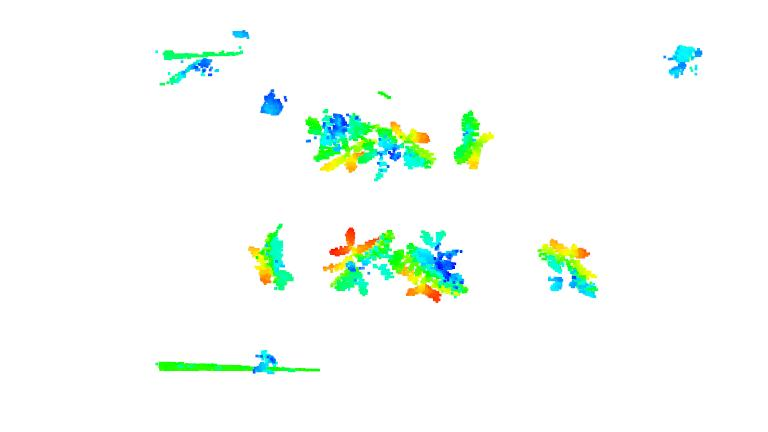chickpea: (321, 225, 398, 296), (398, 228, 471, 301), (303, 106, 378, 174), (366, 122, 438, 181), (536, 237, 599, 301), (244, 224, 294, 293), (451, 108, 493, 168)
